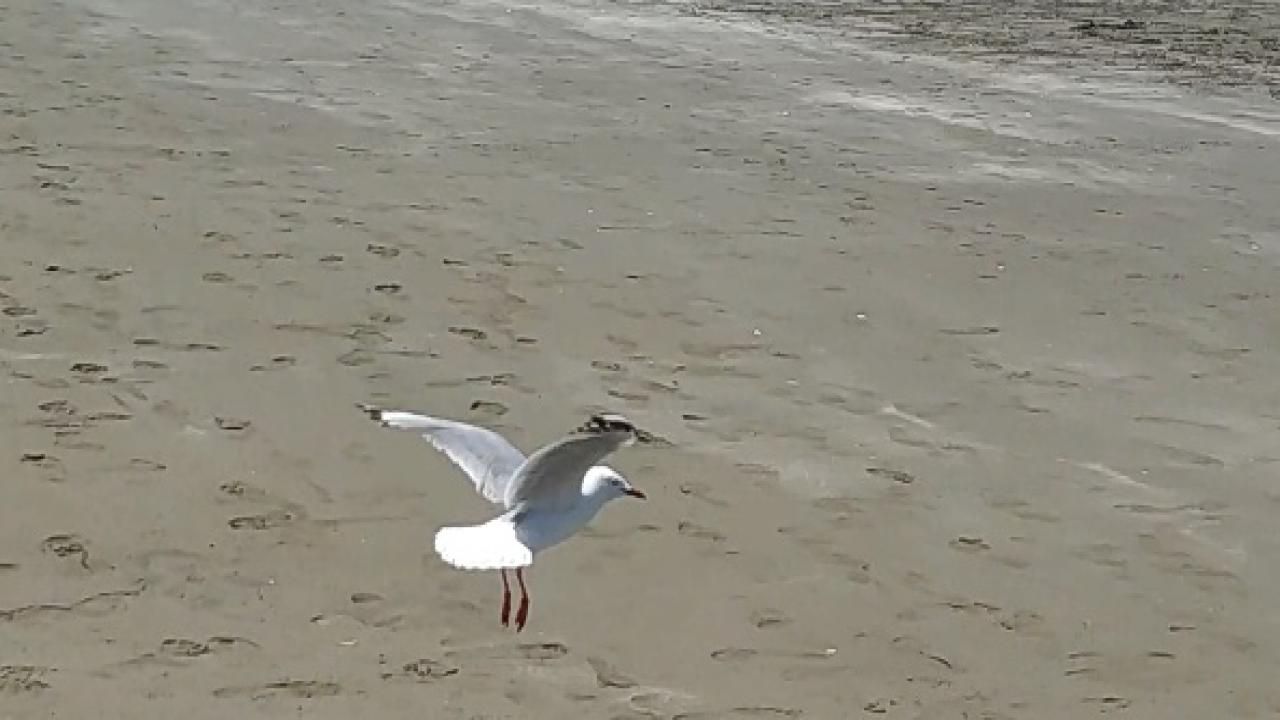Bird: (344, 389, 666, 636)
